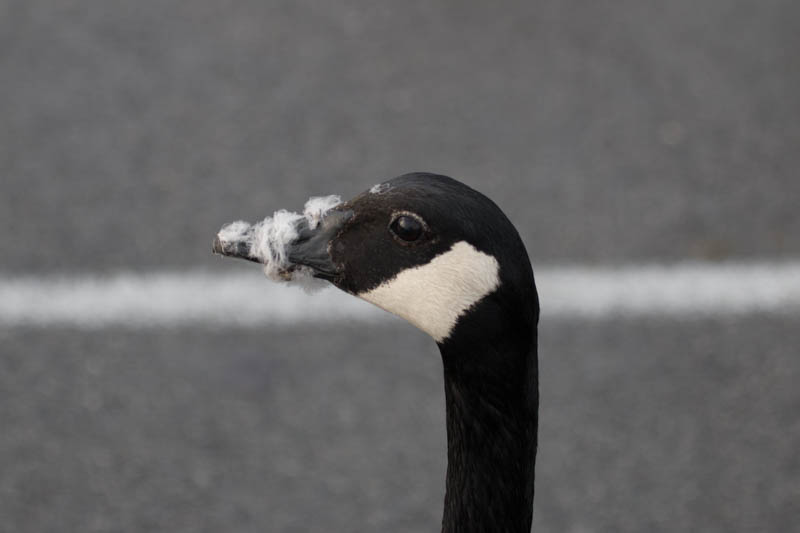goose-head: (209, 172, 540, 349)
